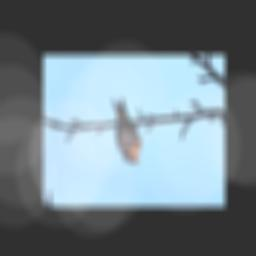Swallow: (95, 96, 158, 166)
